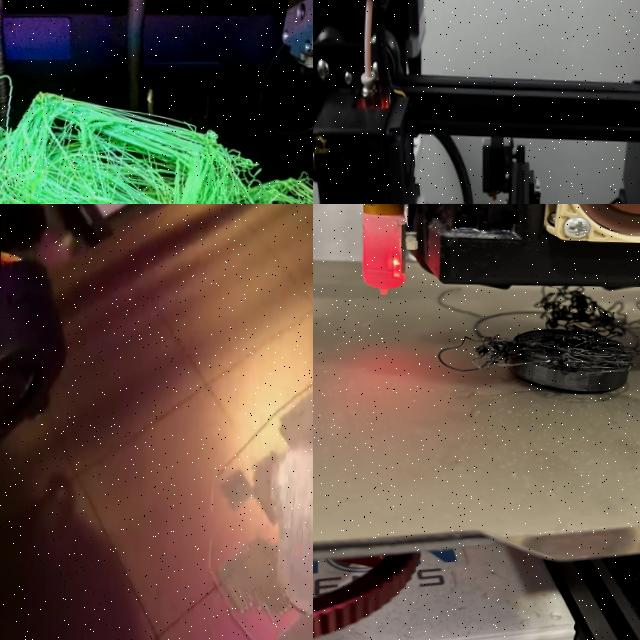spaghetti: (0, 91, 313, 204), (437, 287, 639, 399)
